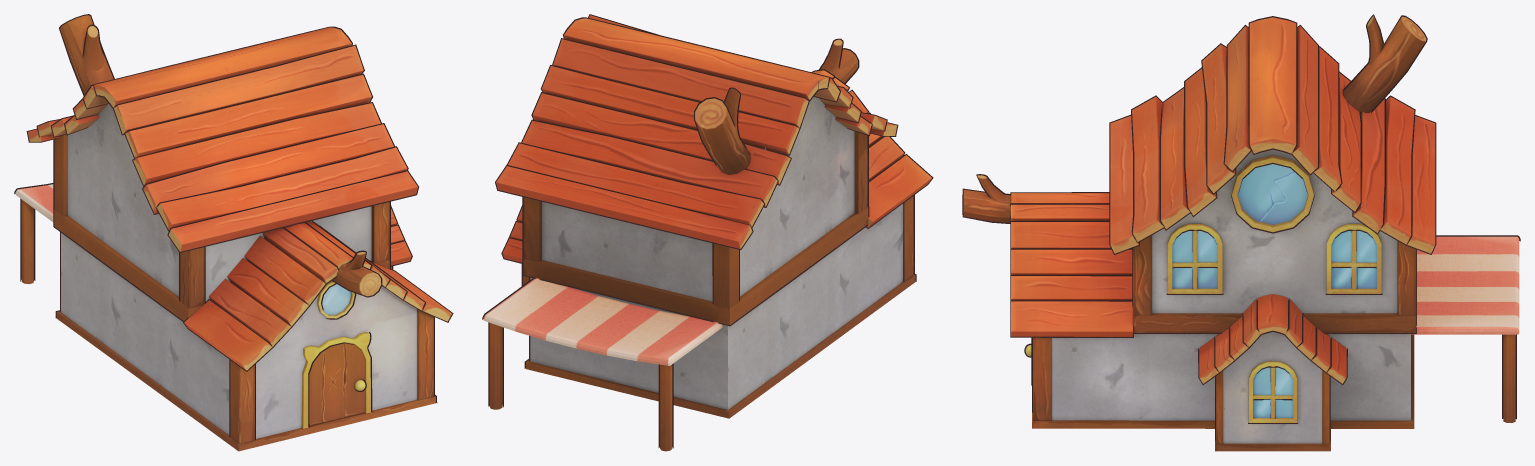
The model's file is cat_house.glb.
3 views of the same model, side by side, from view 1: azimuth 30°, elevation 25°; view 2: azimuth 150°, elevation 25°; view 3: azimuth 270°, elevation 25° (orthographic). The views are drawn at different scales.
Parts seen in each view (by area): view 1: Cube.018, Cube.001; view 2: Cube.018, Cube.001; view 3: Cube.018, Cube.001.
Boxes of the visible parts, left/top/right/bottom form: Cube.018: left=15, top=15, right=451, bottom=451; Cube.001: left=14, top=14, right=453, bottom=439; Cube.018: left=483, top=15, right=931, bottom=451; Cube.001: left=482, top=14, right=933, bottom=448; Cube.018: left=963, top=15, right=1519, bottom=451; Cube.001: left=962, top=14, right=1520, bottom=440.
Size of the model in its own units: 17.19 by 18.25 by 28.82.
2 materials, 1 textured.
